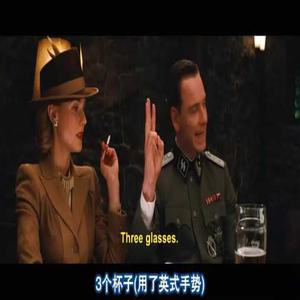cigarette: (105, 134, 112, 150)
